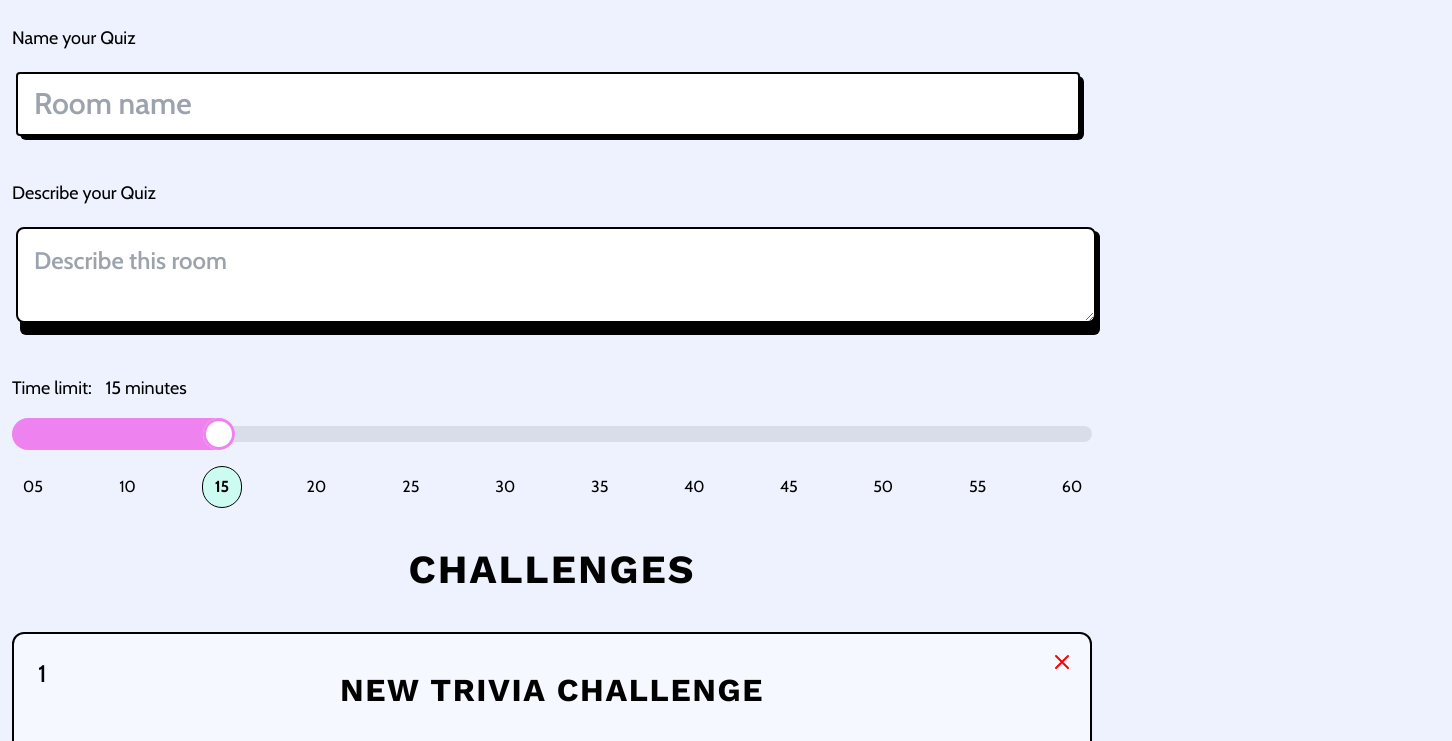
Handle form inputs and submission › Displays error when game title is empty on submit
The width and height of the screenshot is (1452, 741).
# Clear the game title field
Clear the field with test id "game-title" at [548, 104], box [16,72,1080,136]
(page scrolled)
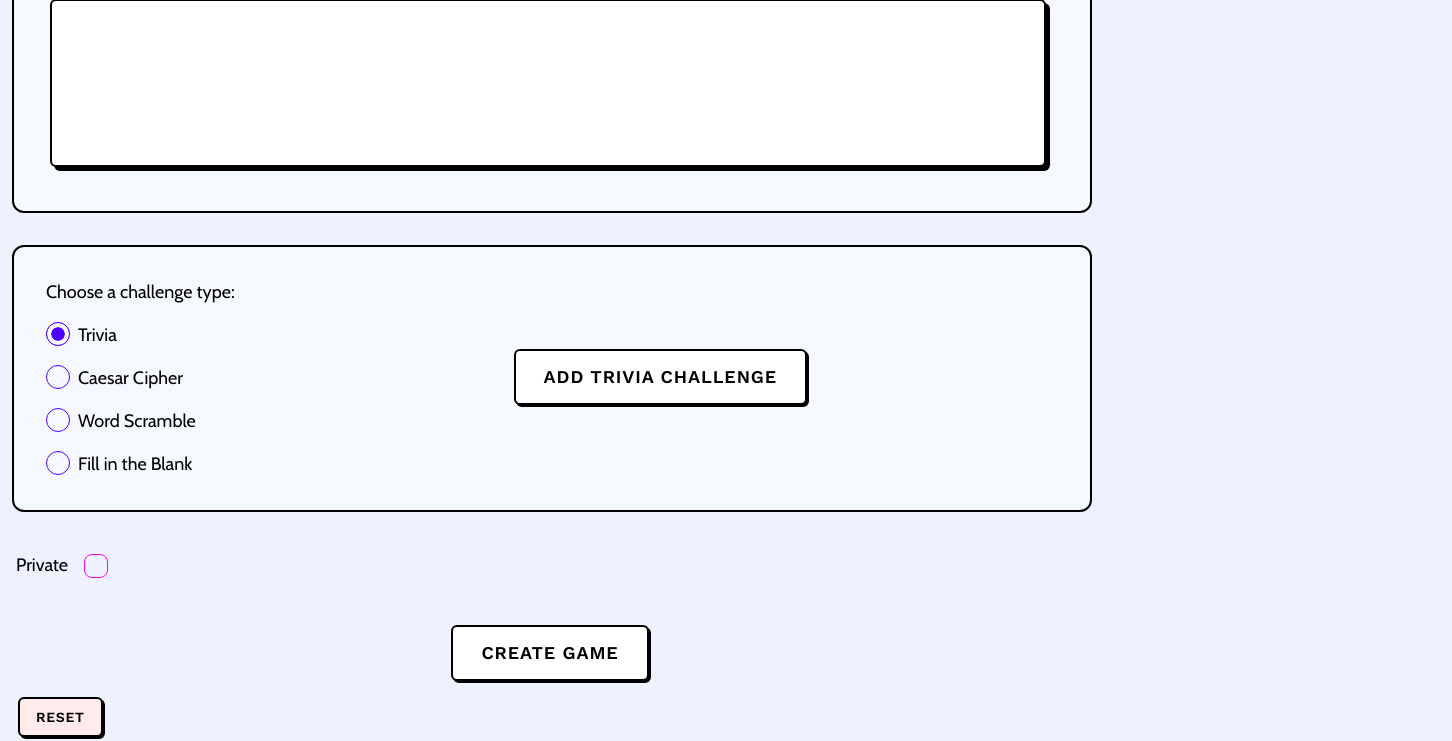
# Try to submit the form
Click the button with test id "create-game".
click(552, 655)  # box [453,627,651,683]
(page scrolled)
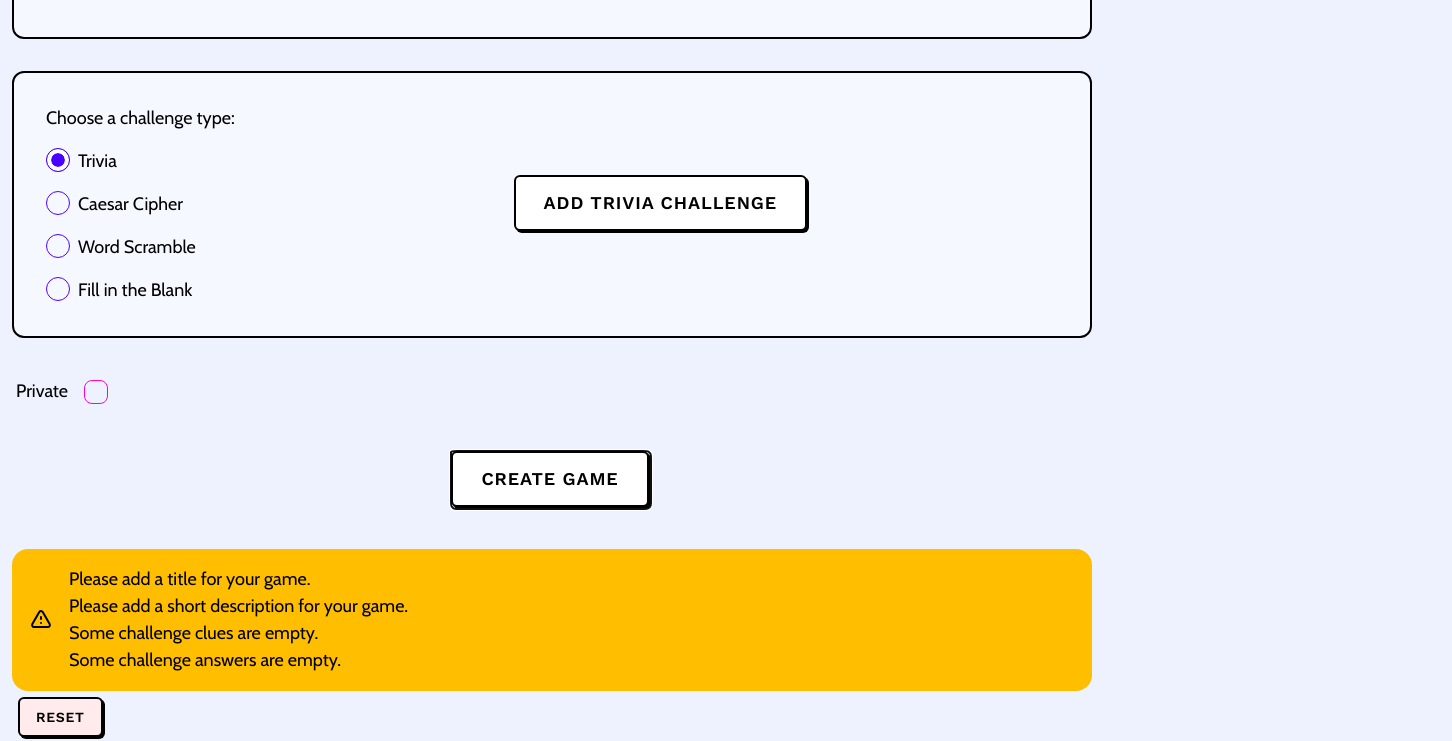
Expected: the list item "Please add a title for your game." is shown, [69,568,310,590]
